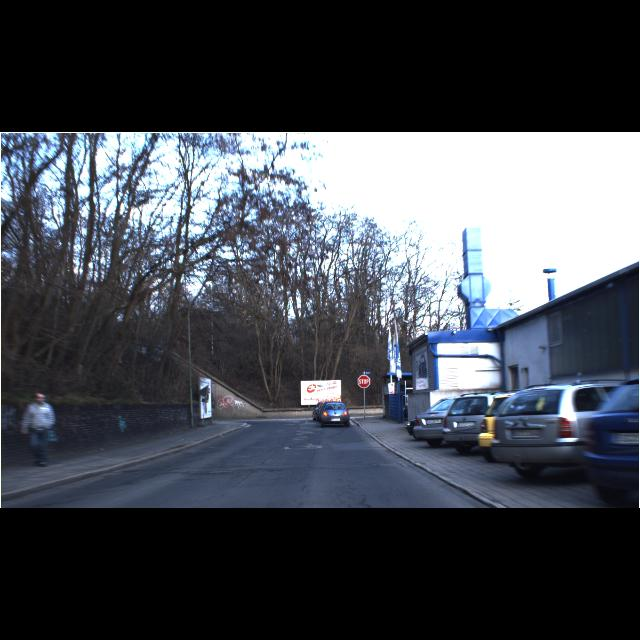other: (358, 376, 370, 388)
